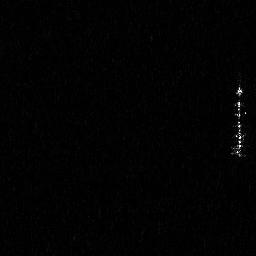ship: (228, 82, 248, 161)
